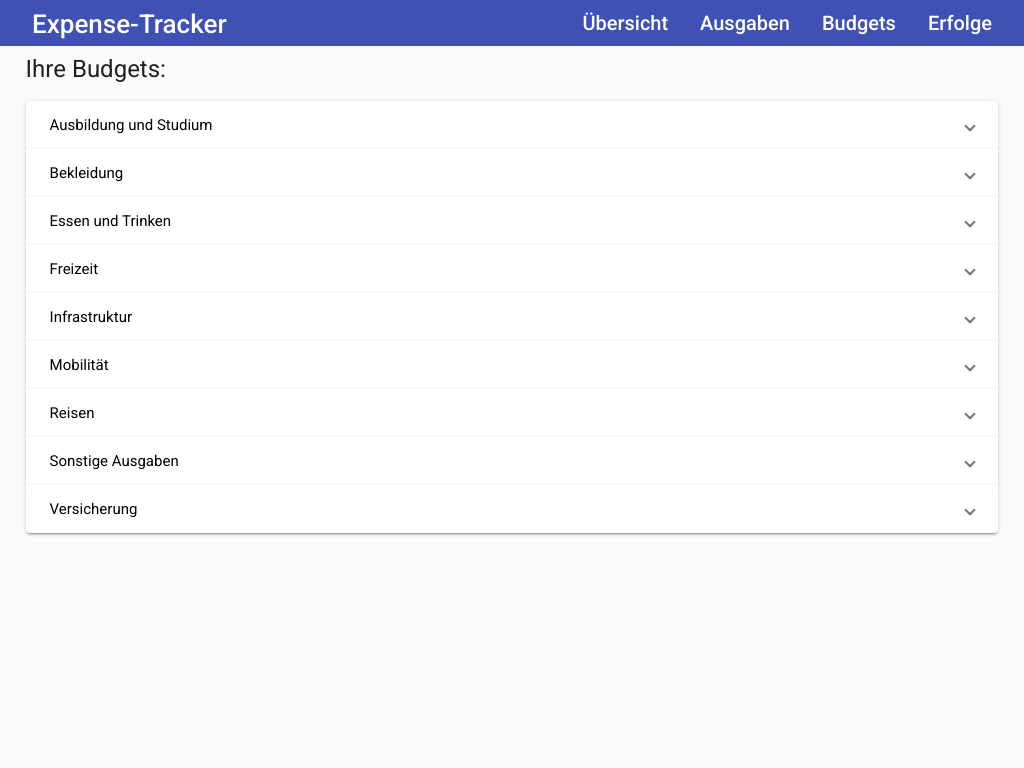
Test: Budgets E2E Test › should not update a budget with a negative "betrag" value
Click the button "Ausbildung und Studium". click: (131, 125)
box: [50, 115, 975, 135]
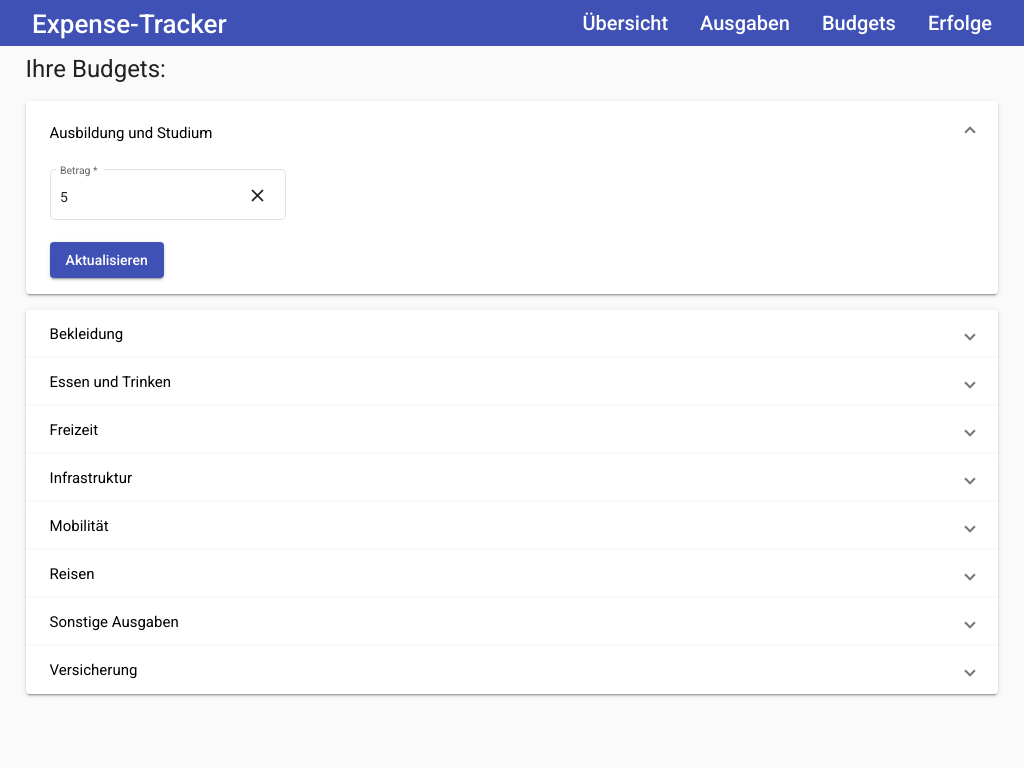
Replace the text in the number field labelled "Betrag *" with "-30". click: (150, 198)
box: [60, 190, 240, 206]
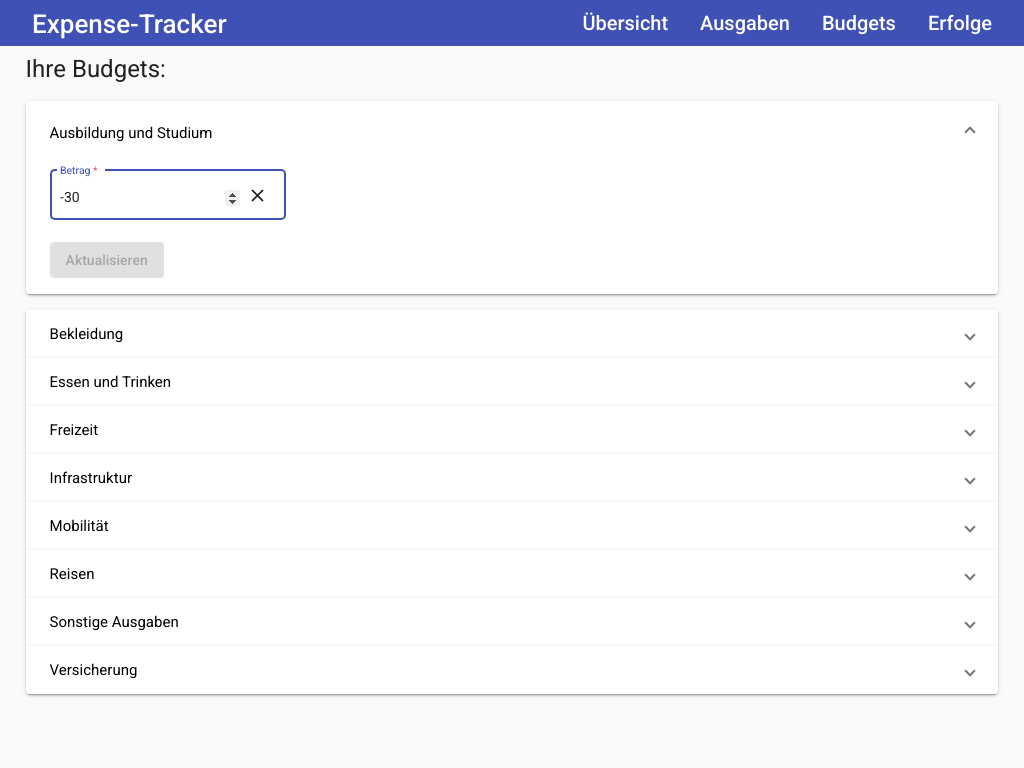
expect the submit button is disabled: met, box [50, 242, 164, 278]
